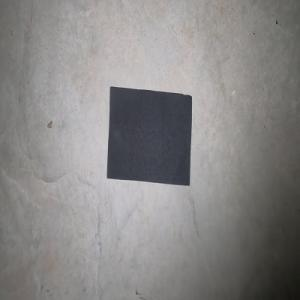PaintChip: (106, 86, 192, 186)
